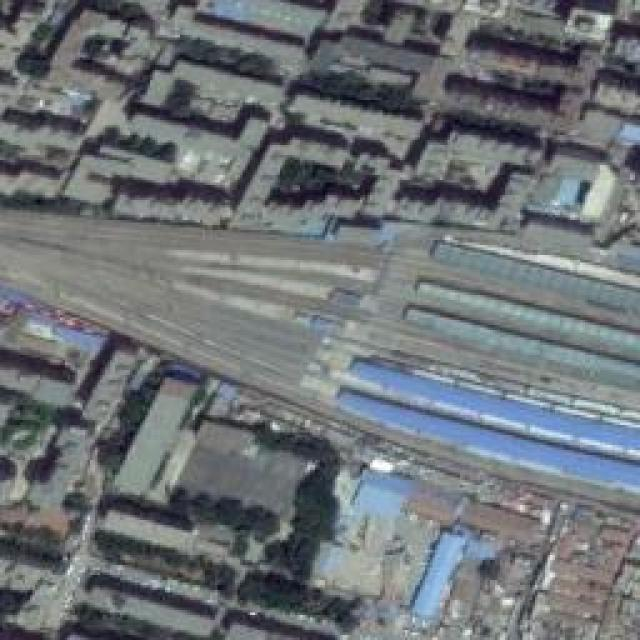Railway: (0, 218, 640, 505)
